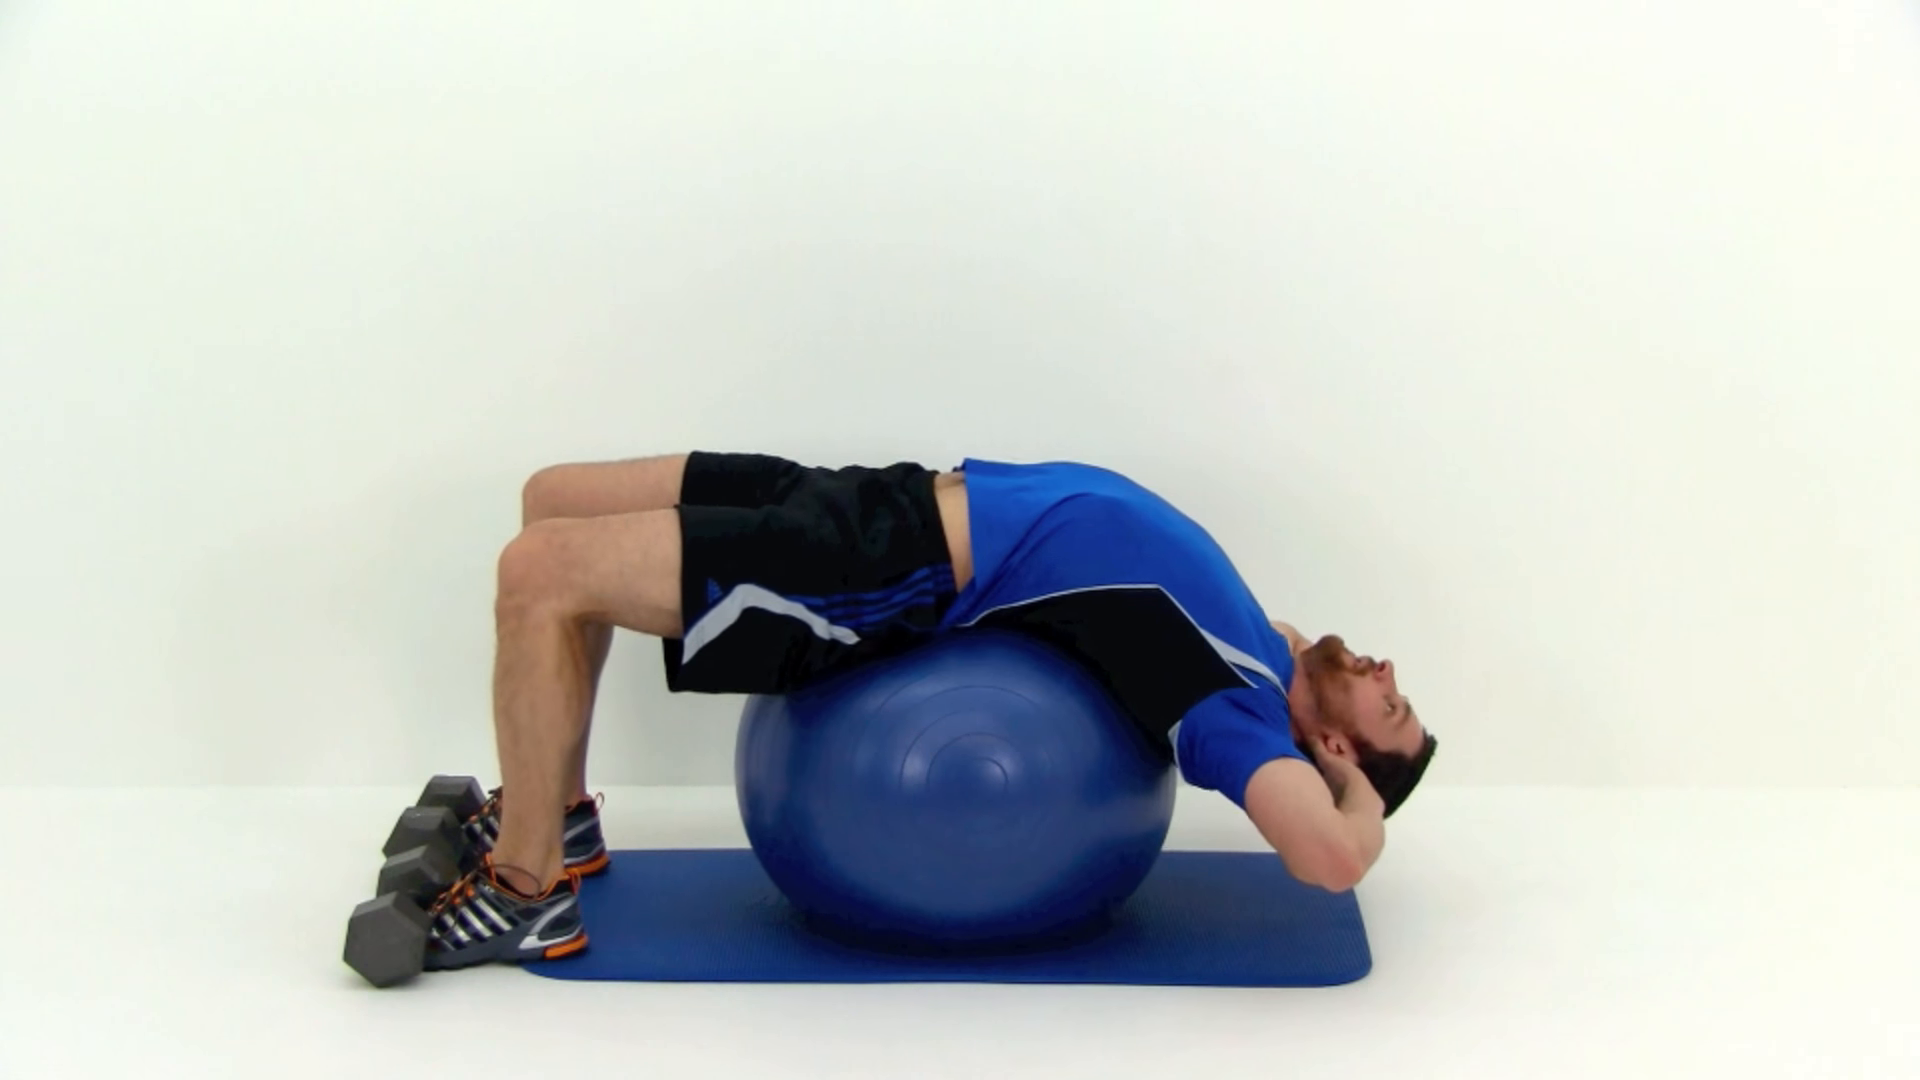yogaball: (723, 592, 1195, 971)
